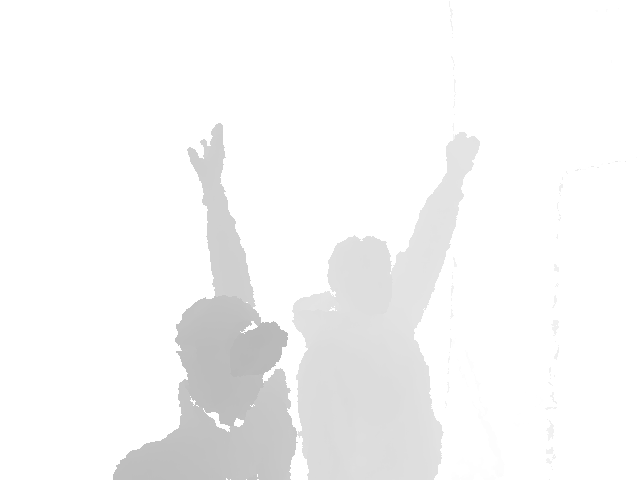hand: (188, 122, 226, 185), (444, 133, 480, 186)
head: (175, 294, 276, 420), (326, 236, 395, 318)
person: (112, 122, 298, 480), (291, 133, 481, 480)
